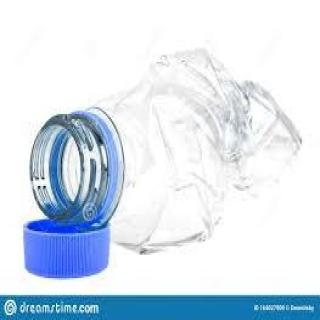Plastic-bottle: (22, 45, 306, 284)
